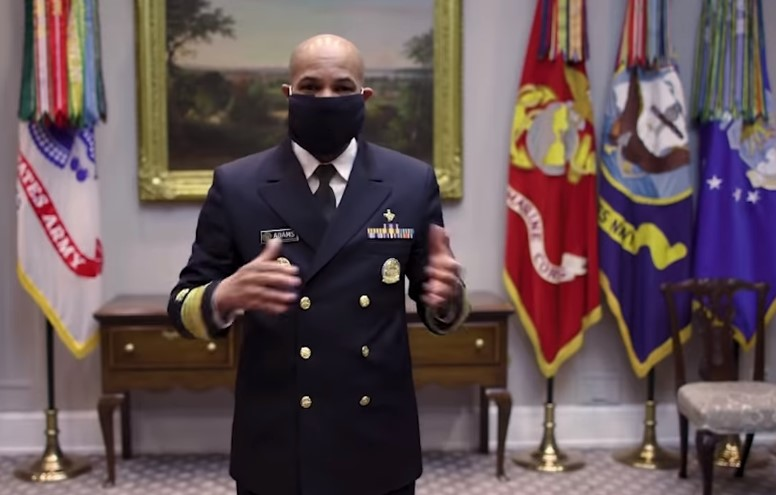face_with_mask: (280, 29, 384, 170)
